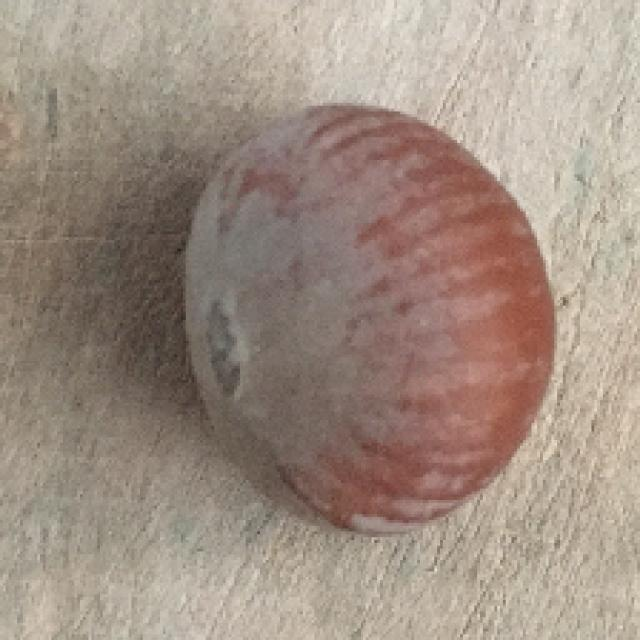qualityHazelnut: (180, 100, 559, 535)
